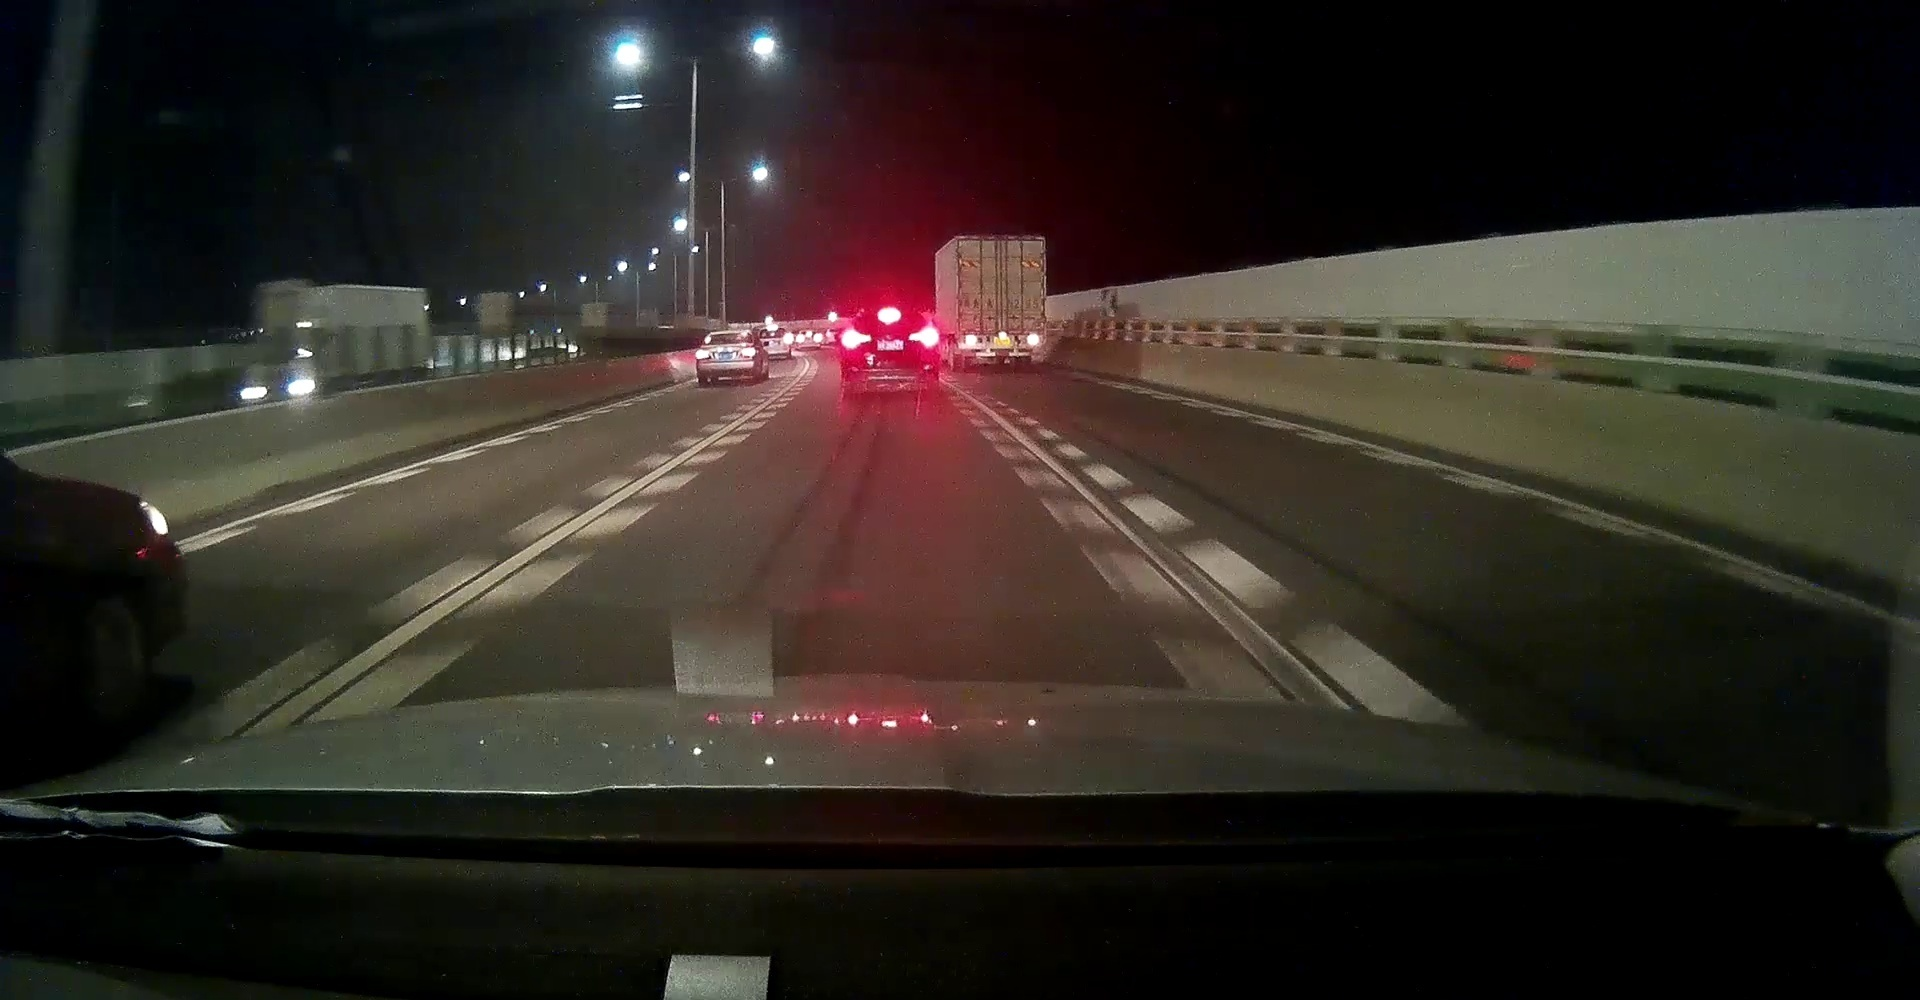L_light: (844, 331, 872, 344), (963, 336, 982, 344), (696, 350, 711, 359)
R_light: (909, 330, 937, 344), (1022, 336, 1041, 345), (739, 348, 756, 357)
T_light: (877, 311, 902, 319), (990, 239, 1010, 245), (723, 334, 731, 336)
night-brake: (842, 305, 938, 397)
night-no: (956, 236, 1046, 371), (696, 330, 758, 385)
